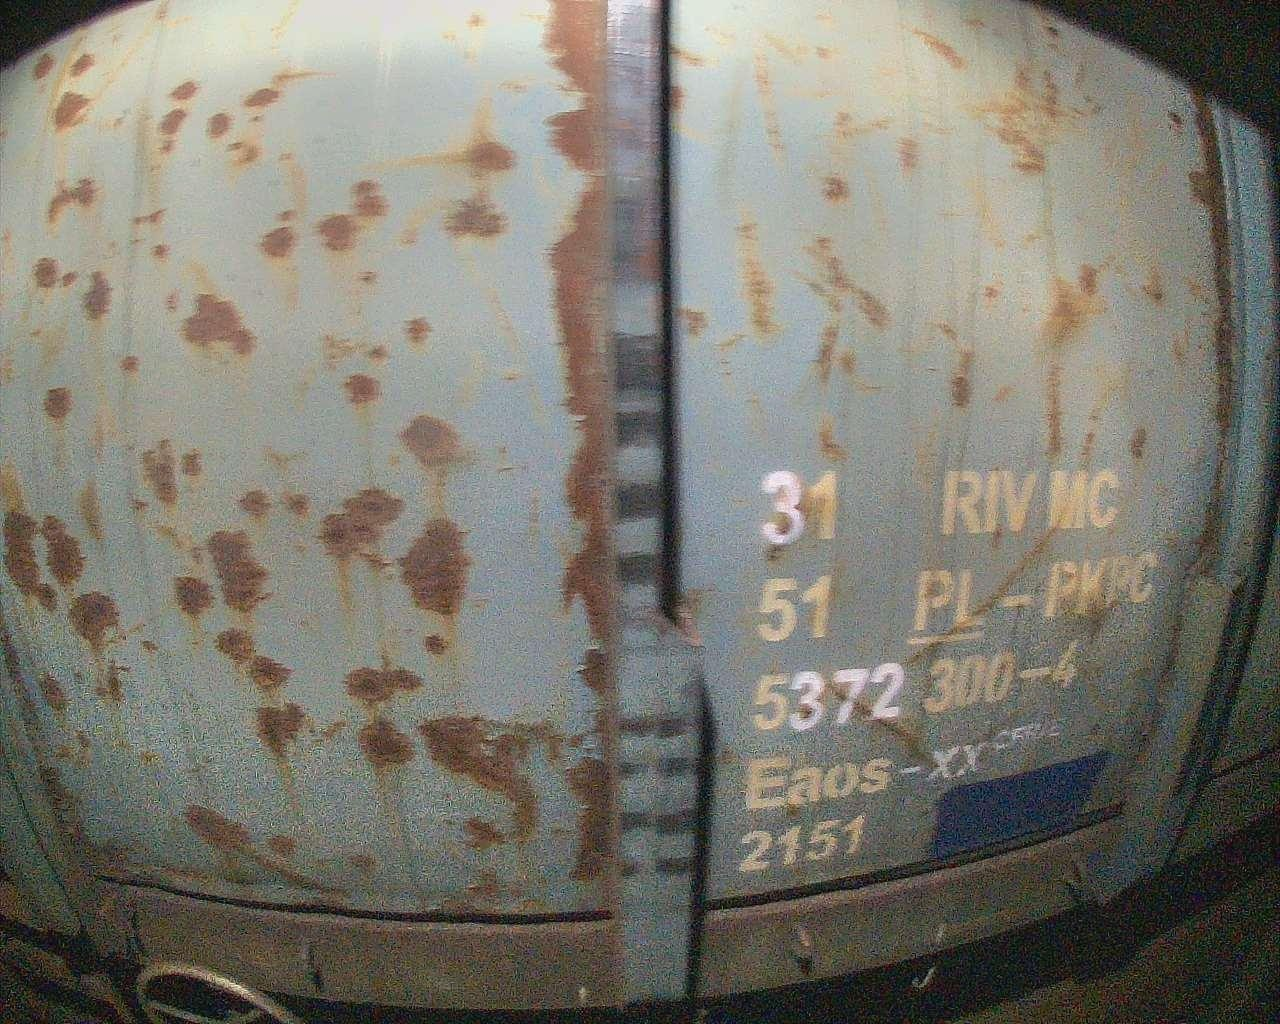UIC: (723, 457, 1163, 880)
